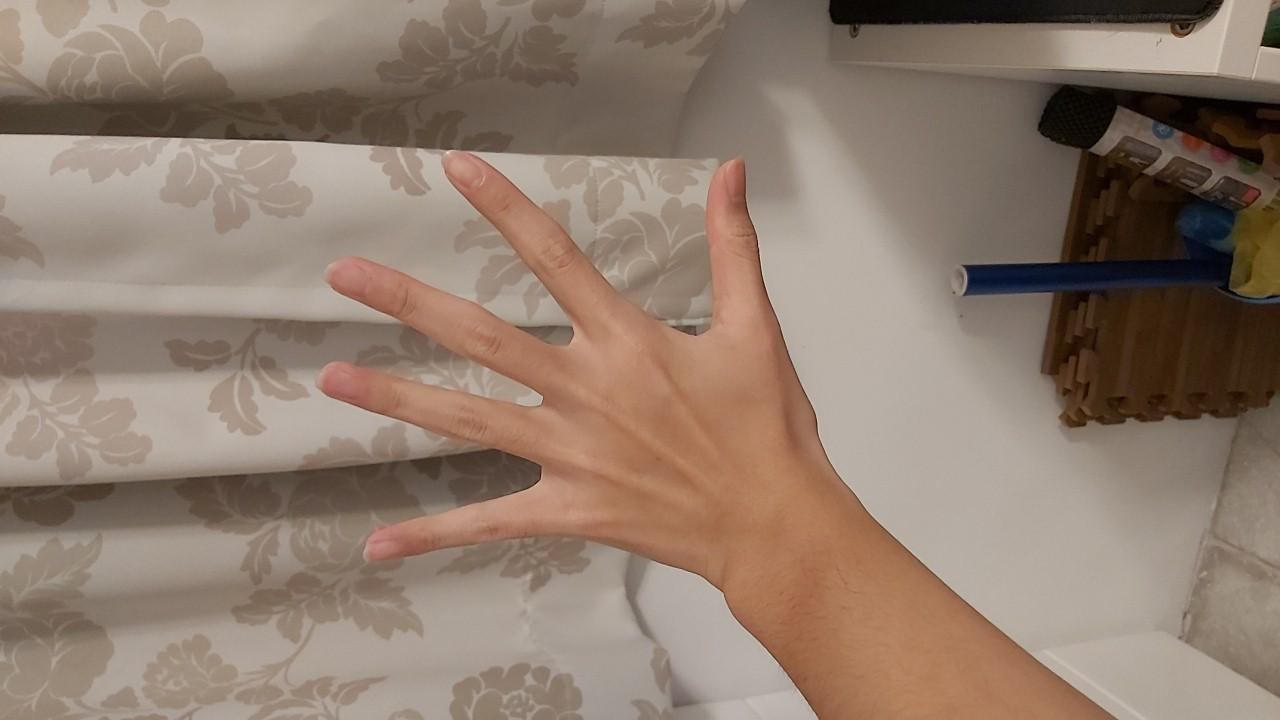hand: (263, 177, 1019, 452)
